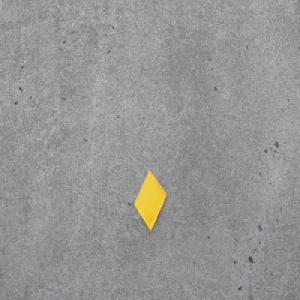PlasticPart: (133, 168, 167, 231)
